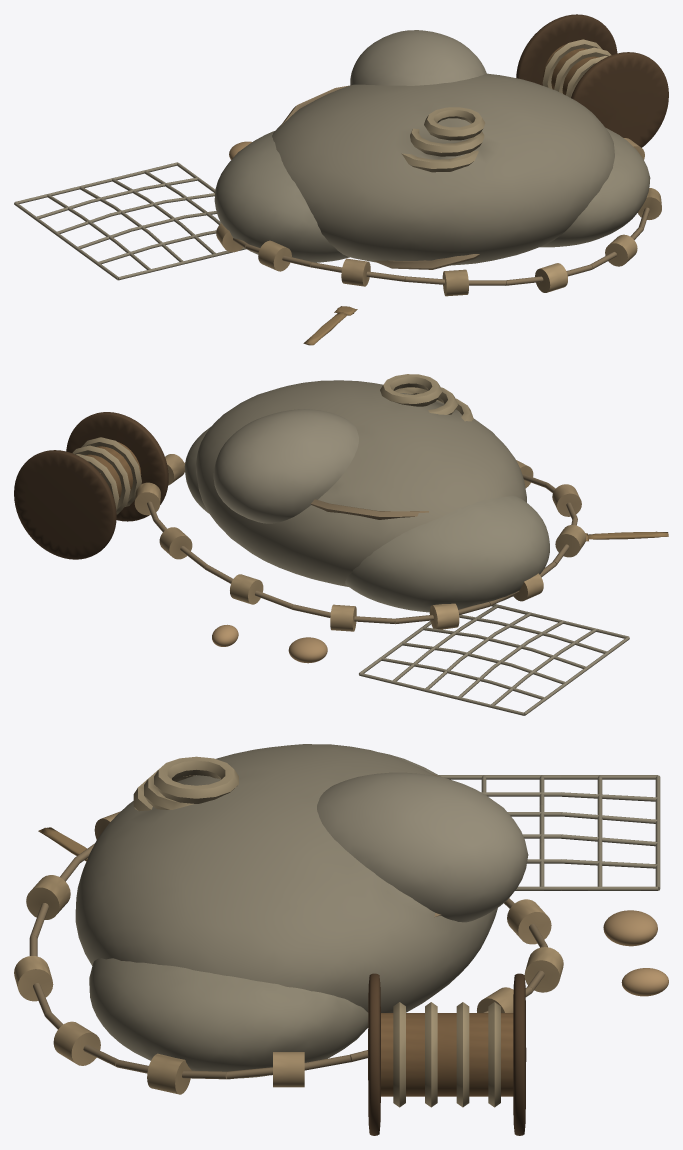
The model's file is net_hoard_a.glb.
The picture shows the model from 3 angles, top to bottom: view 1: azimuth 30°, elevation 25°; view 2: azimuth 150°, elevation 25°; view 3: azimuth 270°, elevation 25°; orthographic projection. The views are drawn at different scales.
Parts seen in each view (by area): view 1: Surface; view 2: Surface; view 3: Surface.
Boxes of the visible parts, left/top/right/bottom form: Surface: left=14, top=14, right=668, bottom=345; Surface: left=14, top=374, right=668, bottom=715; Surface: left=14, top=744, right=668, bottom=1135.
Bounding box in the file's own units: 6.83 × 1.95 × 4.97.
